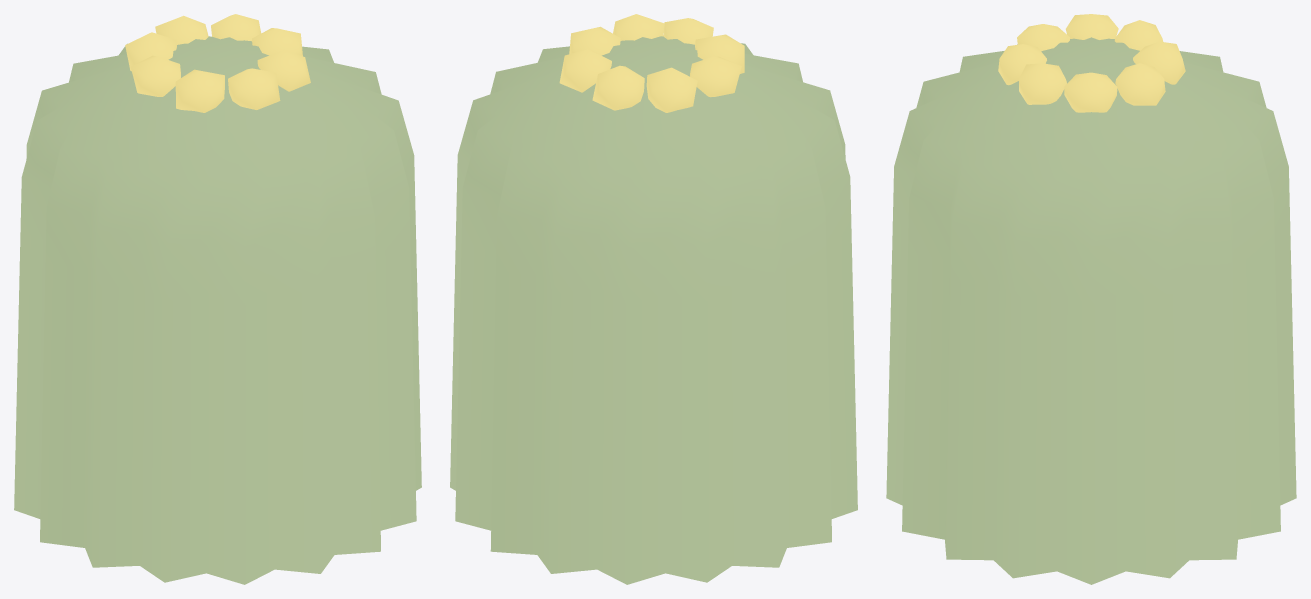
File: Blender_Barrel_1.glb
3 renders of one model, left to right at view 1: azimuth 30°, elevation 25°; view 2: azimuth 150°, elevation 25°; view 3: azimuth 270°, elevation 25°, orthographic.
Visible parts, largest first — view 1: Blender_Barrel_1; view 2: Blender_Barrel_1; view 3: Blender_Barrel_1.
Part boxes in pixels (bbox=[...]): Blender_Barrel_1: bbox=[14, 14, 421, 584]; Blender_Barrel_1: bbox=[450, 14, 857, 584]; Blender_Barrel_1: bbox=[886, 14, 1296, 584].
Size of the model in its own units: 0.756 by 0.9312 by 0.756.
